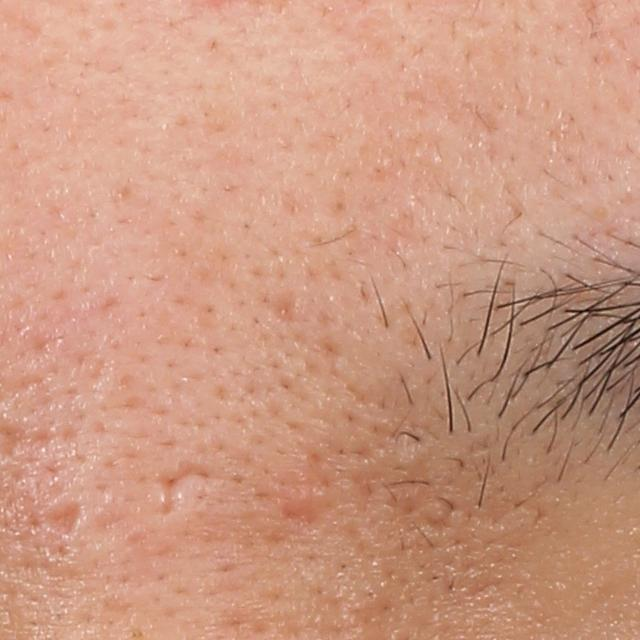atrophic_scar: (156, 462, 225, 518), (39, 500, 86, 539), (278, 503, 331, 536), (274, 292, 299, 325)
